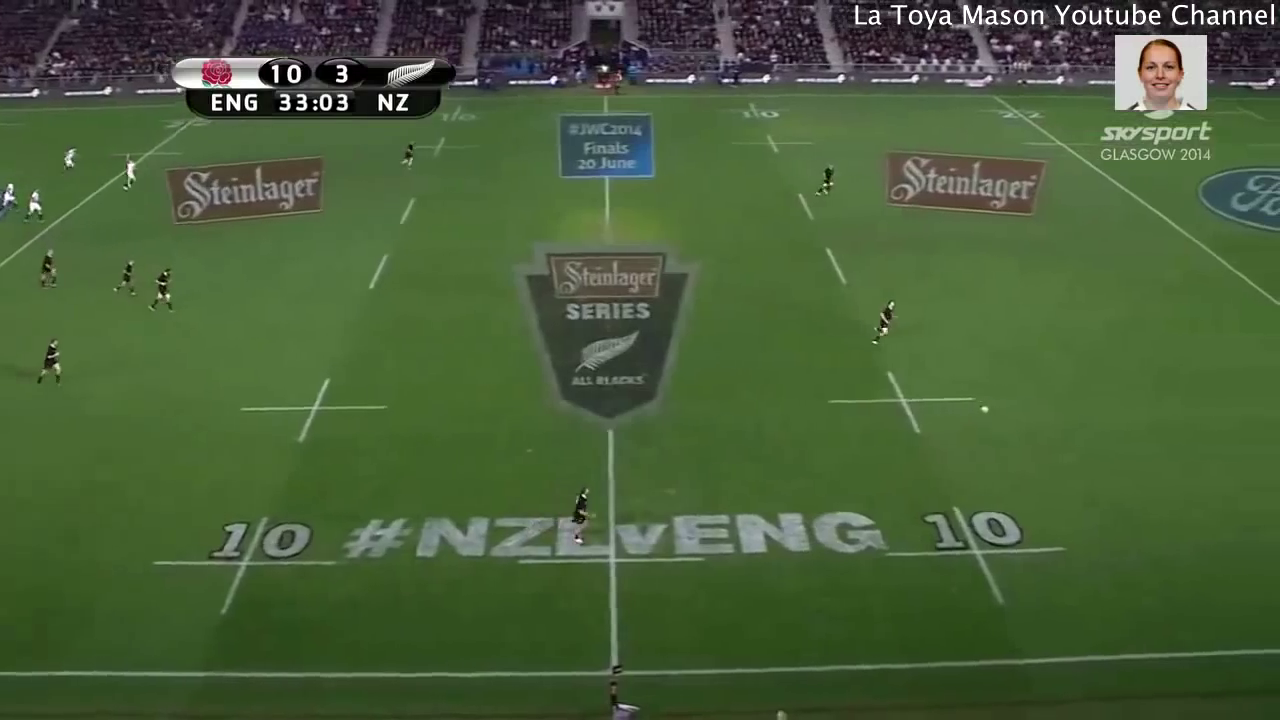10_metre: (880, 496, 1078, 606), (146, 515, 350, 614), (829, 369, 991, 441), (237, 375, 400, 446), (727, 122, 817, 156), (405, 129, 479, 162), (722, 97, 799, 128), (409, 103, 487, 123)
ball: (969, 394, 1004, 427)
player: (563, 480, 603, 549), (860, 295, 906, 352), (143, 263, 182, 315), (33, 335, 71, 387), (106, 255, 143, 299), (813, 155, 842, 200), (22, 184, 49, 227), (119, 150, 145, 194), (37, 242, 59, 290), (1, 177, 23, 216), (57, 142, 80, 179), (398, 136, 419, 170)
